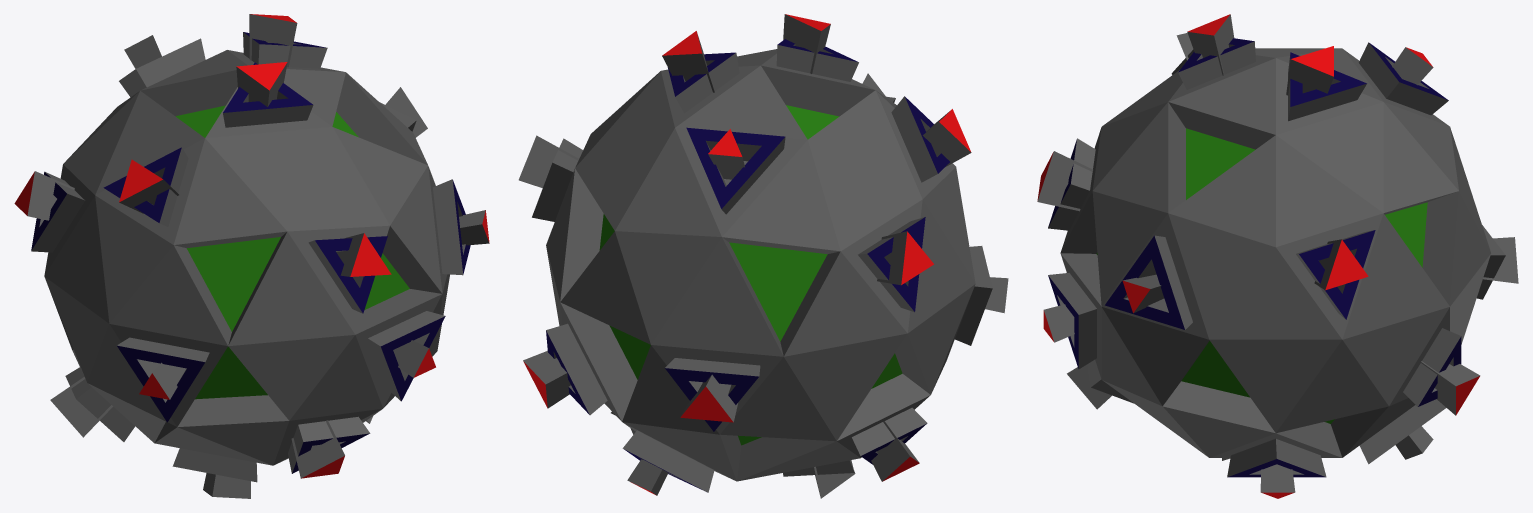
The model's file is Giant9.glb.
3 renders of one model, left to right at view 1: azimuth 30°, elevation 25°; view 2: azimuth 150°, elevation 25°; view 3: azimuth 270°, elevation 25°, orthographic. The views are drawn at different scales.
Visible parts, largest first — view 1: Icosphere; view 2: Icosphere; view 3: Icosphere.
Part boxes in pixels (bbox=[...]): Icosphere: bbox=[14, 14, 489, 498]; Icosphere: bbox=[518, 14, 1008, 498]; Icosphere: bbox=[1037, 14, 1518, 498].
Size of the model in its own units: 9.79 by 10.19 by 10.05.
